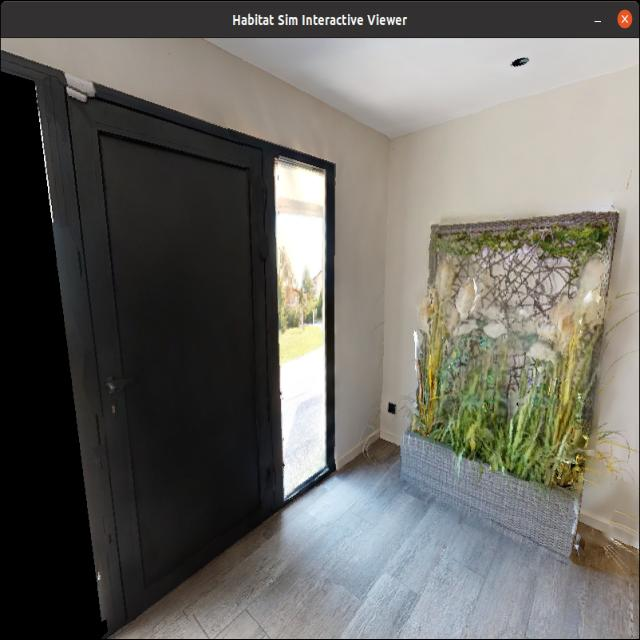door: (96, 141, 275, 557)
